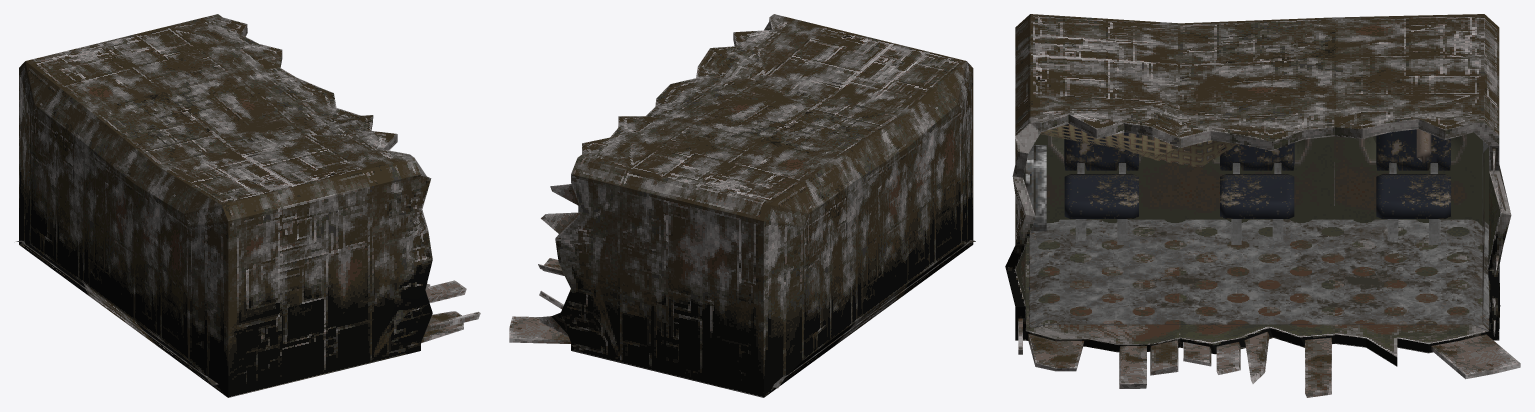
File: ship_segment.gltf
3 views of the same model, side by side, from view 1: azimuth 30°, elevation 25°; view 2: azimuth 150°, elevation 25°; view 3: azimuth 270°, elevation 25° (orthographic). The views are drawn at different scales.
Visible parts, largest first — view 1: Shell; view 2: Shell; view 3: Shell, FloorgrateLP, Chair.001, Chair.002, Chair, CargoNetLP, BoxLP, Broken wallLP, Pipe1.
Boxes of the visible parts, x1,y1,x2,y2 form: Shell: (19, 14, 480, 397); Shell: (509, 14, 973, 397); Shell: (1005, 14, 1520, 397); FloorgrateLP: (1029, 219, 1488, 330); Chair.001: (1376, 129, 1450, 244); Chair.002: (1064, 124, 1138, 244); Chair: (1220, 143, 1294, 244); CargoNetLP: (1040, 124, 1237, 166); BoxLP: (1025, 145, 1046, 232); Broken wallLP: (1482, 141, 1488, 329); Pipe1: (1416, 129, 1431, 163).
Bounding box in the file's own units: 11.26 × 6.52 × 13.85.
Materials: 2 (2 with a texture image).
